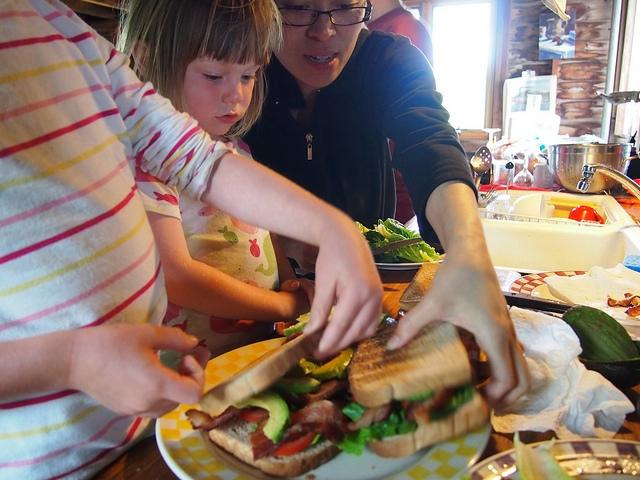avocado: (561, 305, 639, 361), (231, 389, 291, 444), (312, 347, 356, 381), (273, 377, 321, 398), (282, 320, 310, 336)
lettuce: (334, 404, 418, 456), (374, 218, 439, 262), (370, 234, 428, 263), (428, 386, 473, 422), (341, 401, 369, 422), (402, 390, 437, 401)
tomato: (271, 432, 317, 456), (238, 407, 268, 422)
